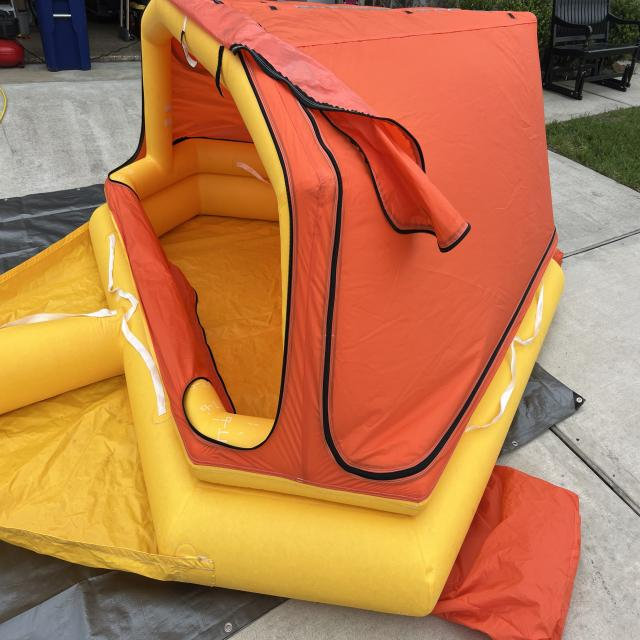Multi-person_life_raft: (0, 0, 580, 639)
